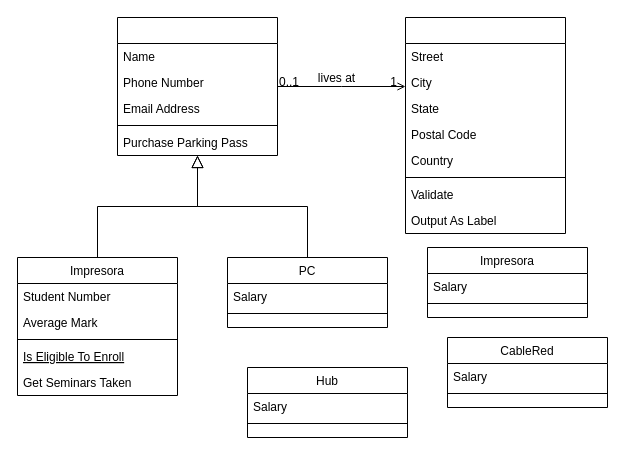
The diagram is 625 pixels wide and 455 high, and some of its shapes have lost their labels. The shapes that lost their labels are listed below. From the top down, each one's box as (x1, y1, x2, y2) in pixels, then its label:
(116, 16, 278, 156): ElementoRed
(404, 16, 566, 234): Servidor
